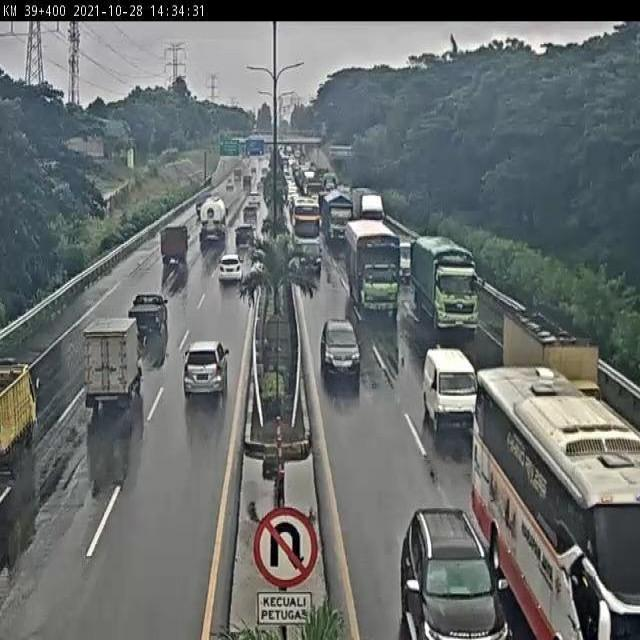big bus: (471, 362, 640, 640), (289, 198, 325, 250)
big truck: (409, 237, 478, 336), (345, 218, 403, 314)
car: (402, 510, 510, 640), (424, 349, 480, 431), (184, 342, 229, 402), (319, 319, 361, 376), (132, 291, 172, 341), (298, 240, 325, 273), (217, 256, 245, 285), (233, 227, 255, 256)
small truck: (505, 319, 603, 425), (81, 315, 141, 416), (196, 198, 228, 245), (159, 223, 191, 268)
